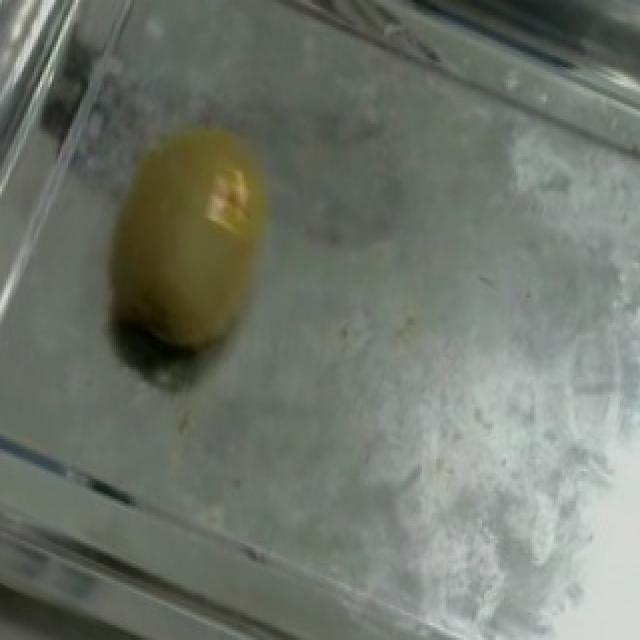Fruit: (62, 87, 320, 389)
